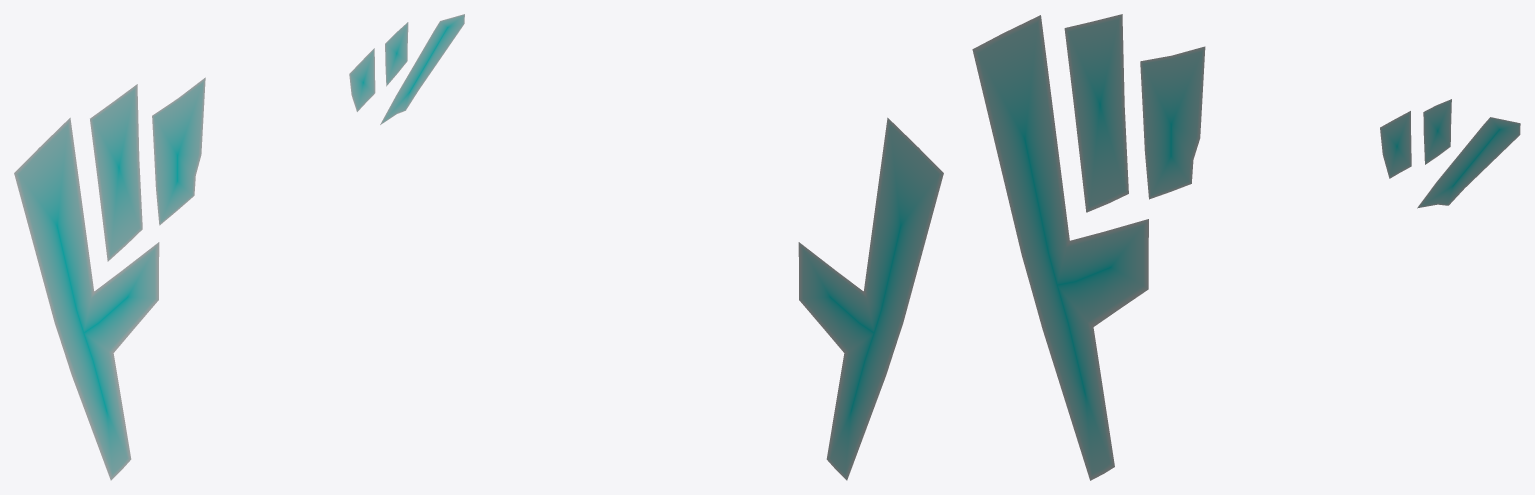
The model's file is SM_EFF_Text_D35NJ2_01.glb.
The picture shows the model from 3 angles, left to right: view 1: azimuth 30°, elevation 25°; view 2: azimuth 150°, elevation 25°; view 3: azimuth 330°, elevation 25°; orthographic projection. The views are drawn at different scales.
Parts seen in each view (by area): view 1: SM_EFF_Text_D35NJ2_01; view 2: SM_EFF_Text_D35NJ2_01; view 3: SM_EFF_Text_D35NJ2_01.
Boxes of the visible parts, box(x1,y1,x2,y2) form: SM_EFF_Text_D35NJ2_01: box(14, 14, 464, 480); SM_EFF_Text_D35NJ2_01: box(798, 117, 943, 480); SM_EFF_Text_D35NJ2_01: box(972, 14, 1520, 480).
Size of the model in its own units: 2.72 by 2.25 by 5.61e-07.
